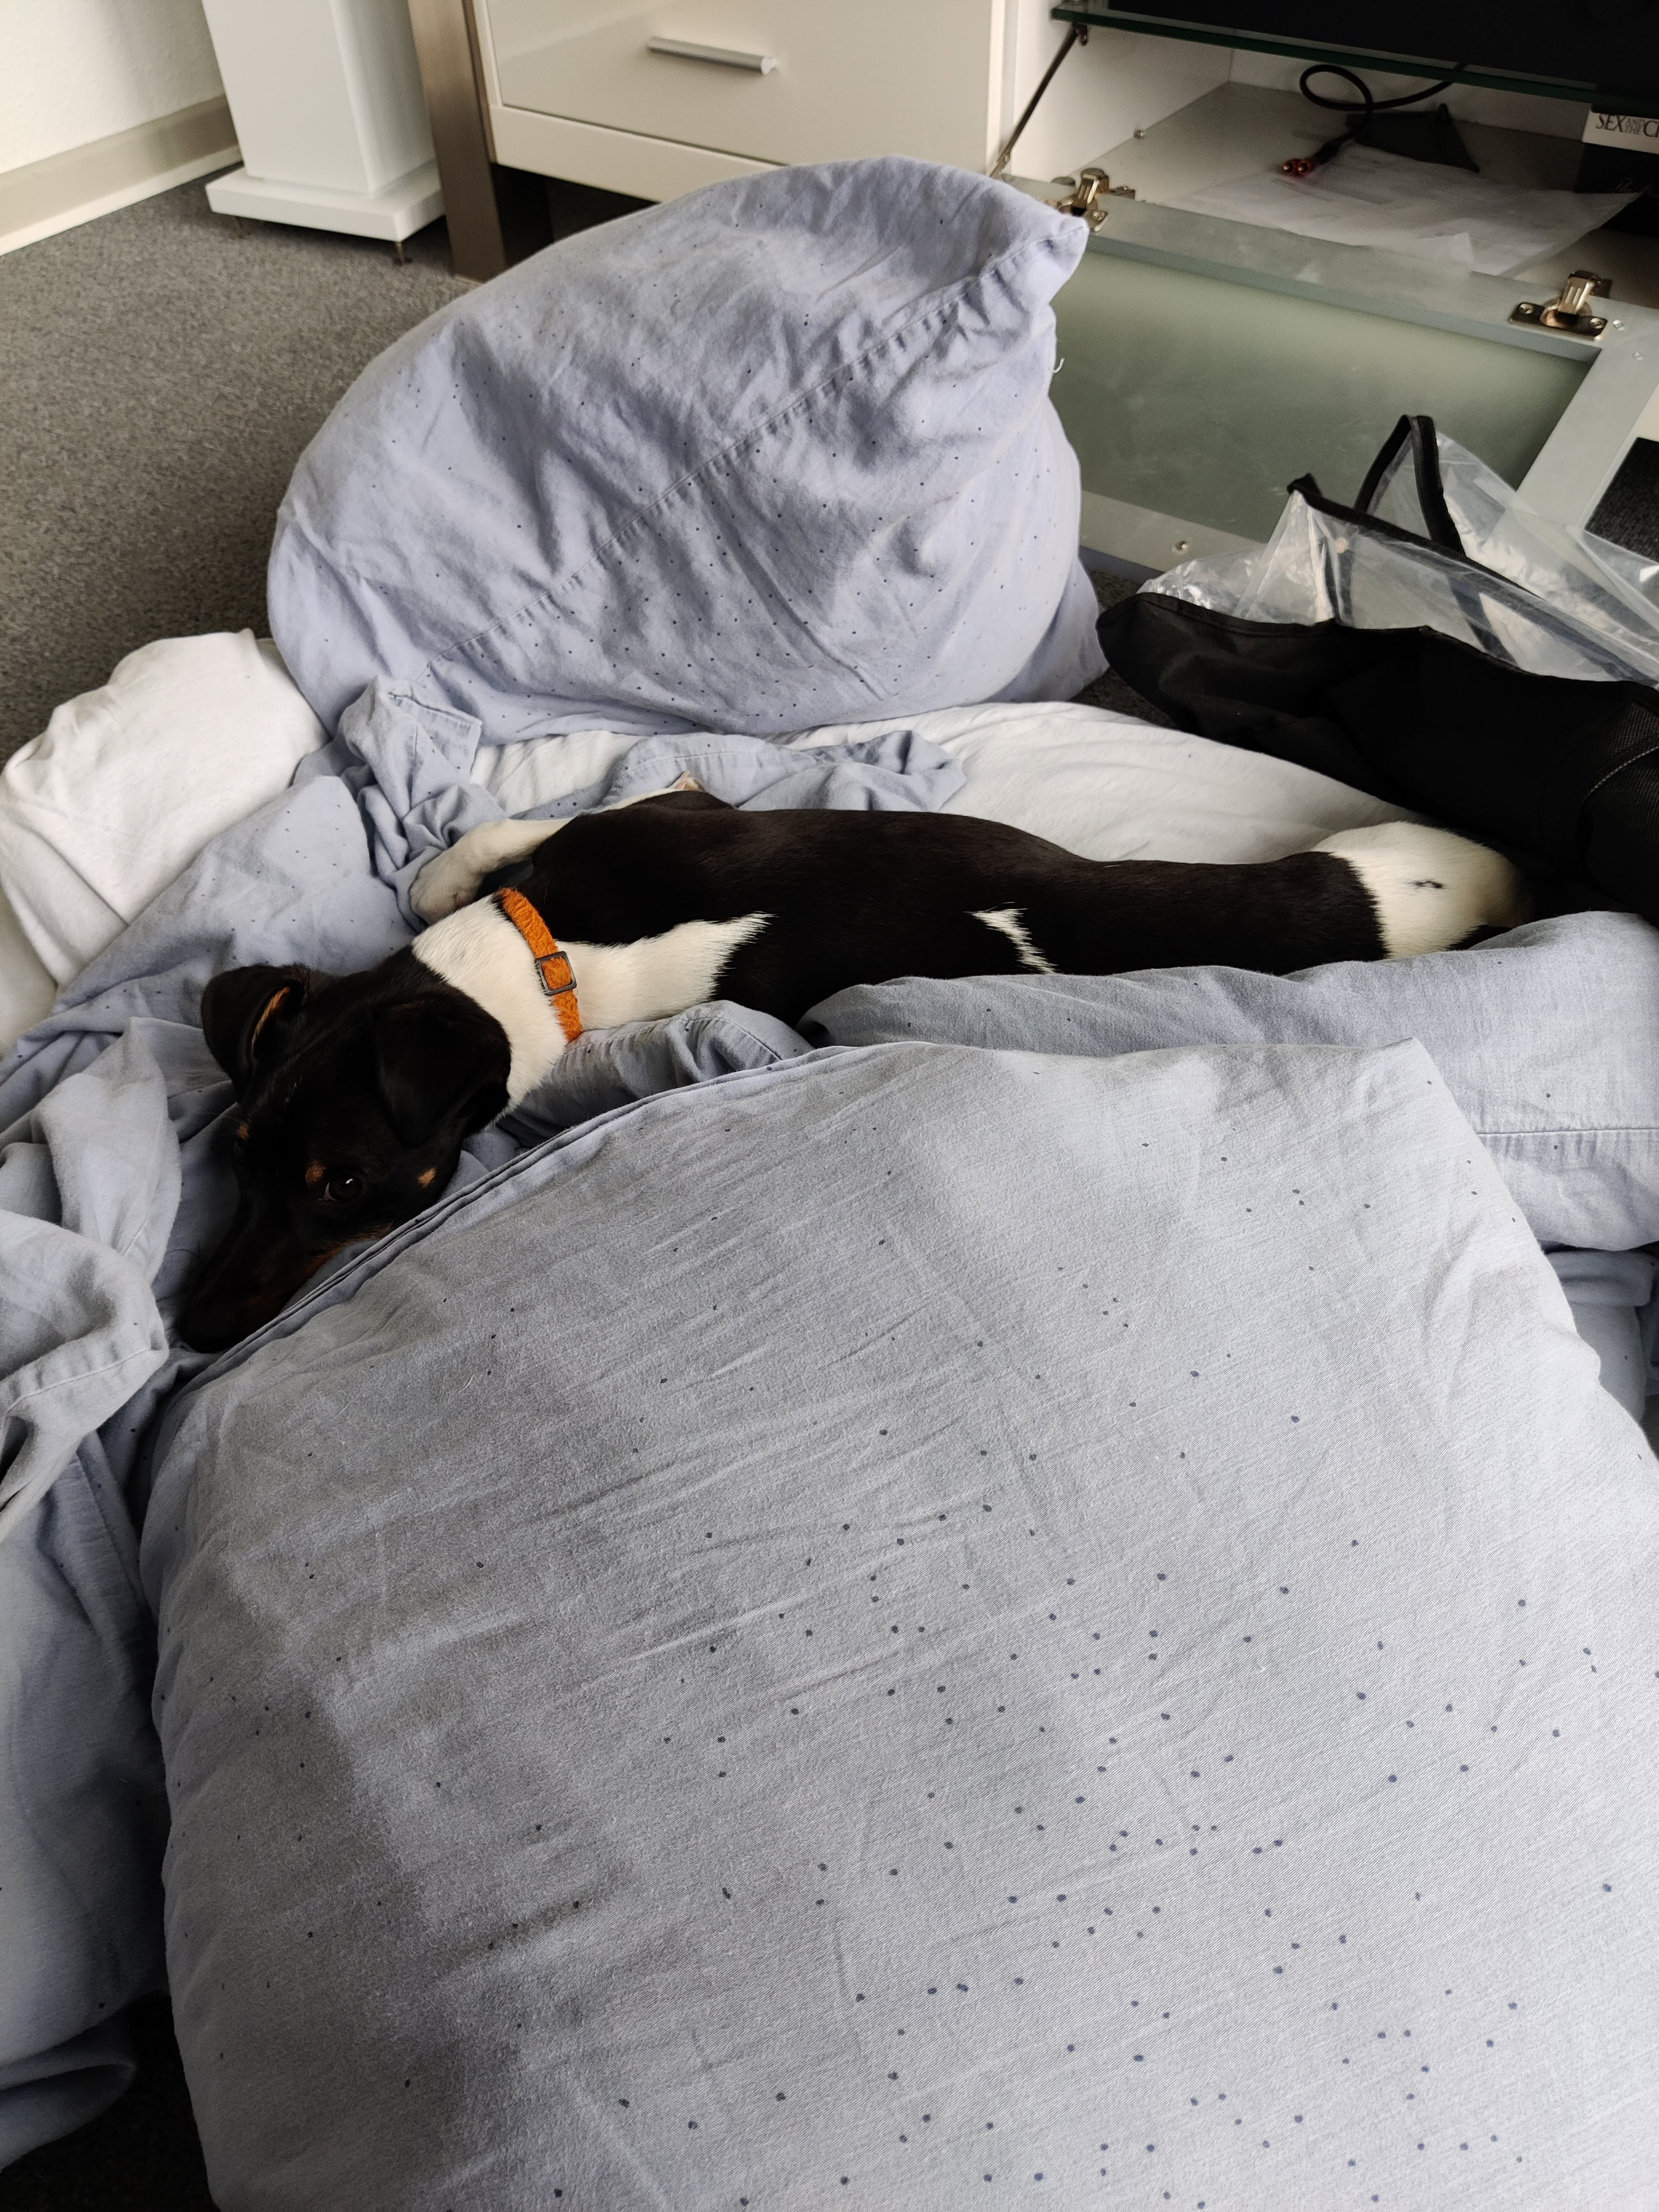Dog: (160, 779, 1549, 1360)
